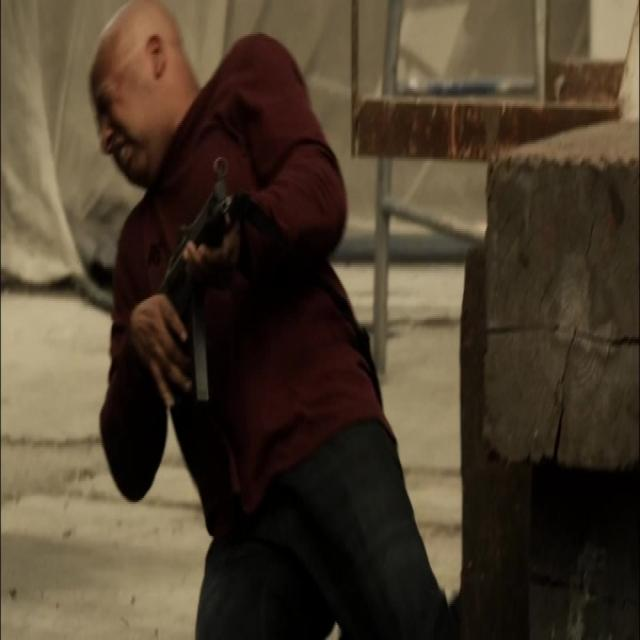rifle: (159, 149, 241, 415)
